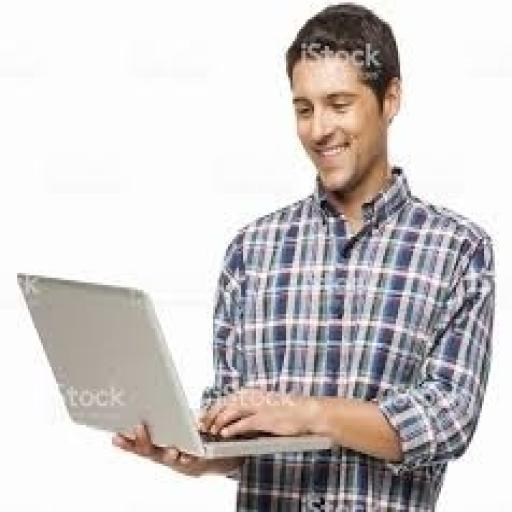using_laptop: (15, 268, 334, 461)
